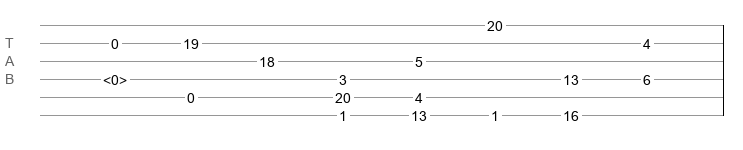0: (111, 36, 119, 46), (187, 90, 195, 100)
1: (339, 108, 347, 118), (491, 108, 499, 118)
13: (411, 108, 427, 118), (563, 72, 579, 82)
16: (563, 108, 579, 118)
18: (259, 54, 275, 64)
19: (183, 36, 199, 46)
20: (335, 90, 351, 100), (487, 18, 503, 28)
3: (339, 72, 347, 82)
4: (415, 90, 423, 100), (643, 36, 651, 46)
5: (415, 54, 423, 64)
6: (643, 72, 651, 82)
harmonic: (103, 72, 127, 82)
